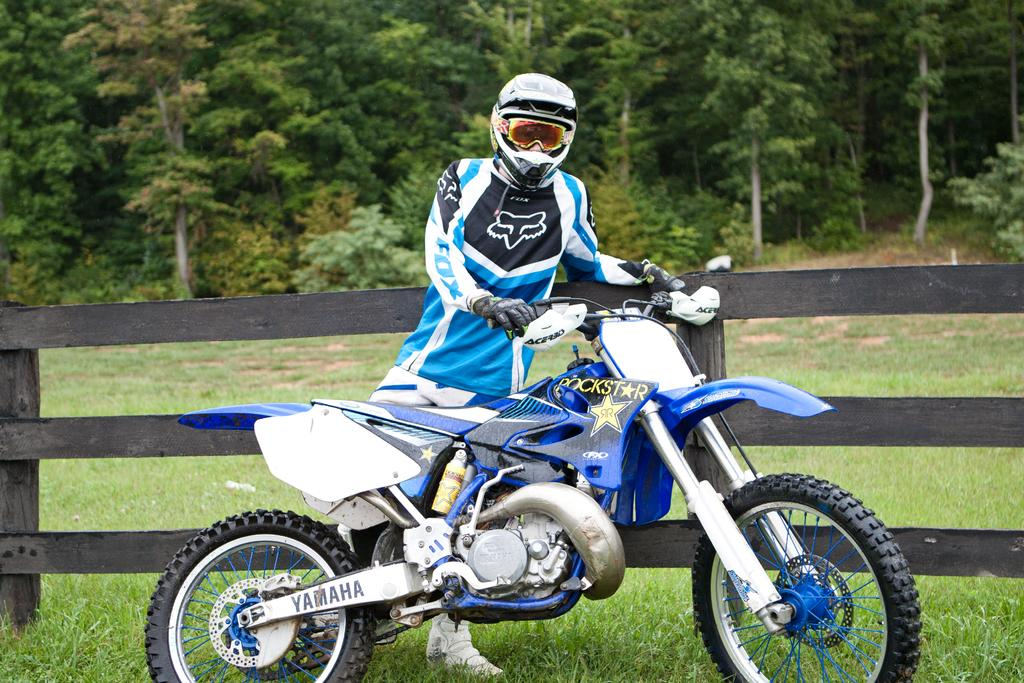helmet: (490, 73, 578, 189)
